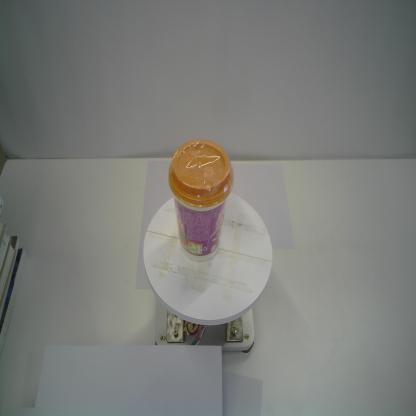Instant Drink: (167, 138, 235, 262)
